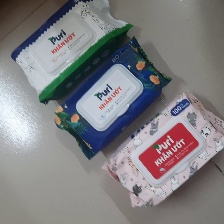Puri Trang: (10, 1, 133, 105)
Puri Xanh: (54, 36, 172, 159)
Puri hong: (102, 89, 224, 210)
